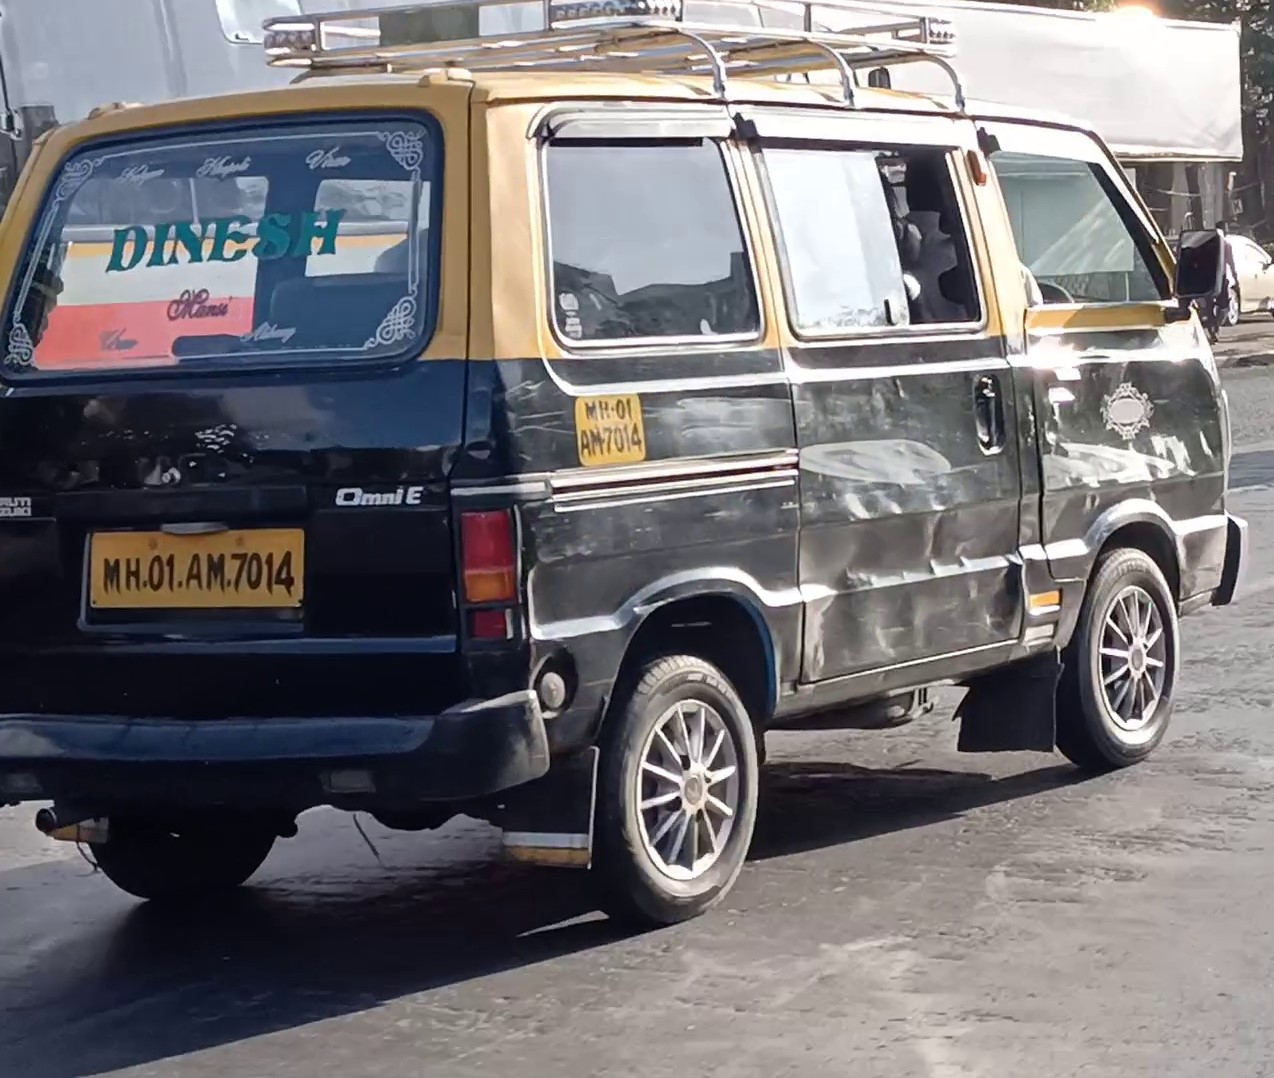MH01AM7014: (90, 527, 305, 605)
